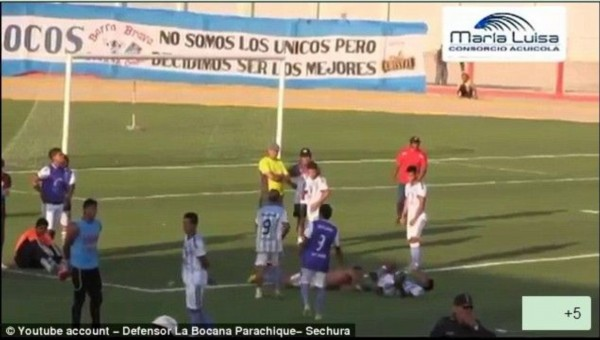fall: (365, 254, 436, 302)
